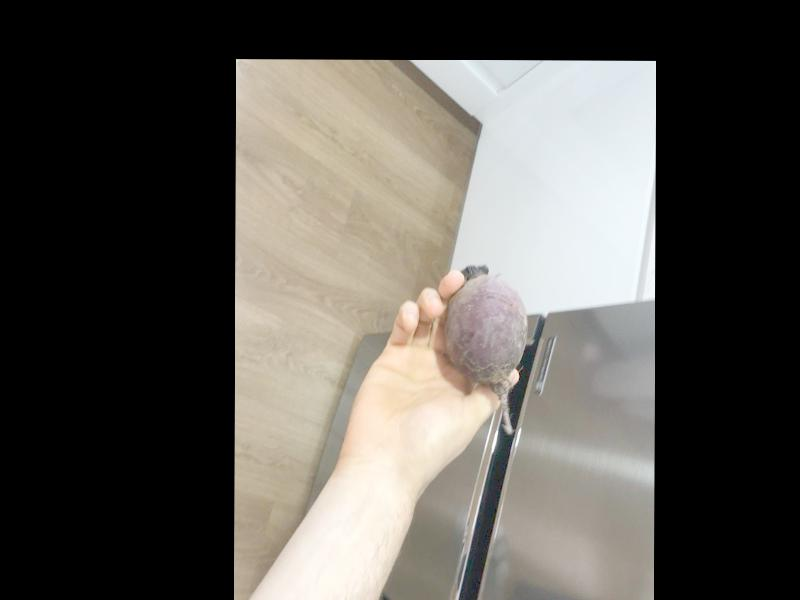Beet: (446, 263, 526, 431)
